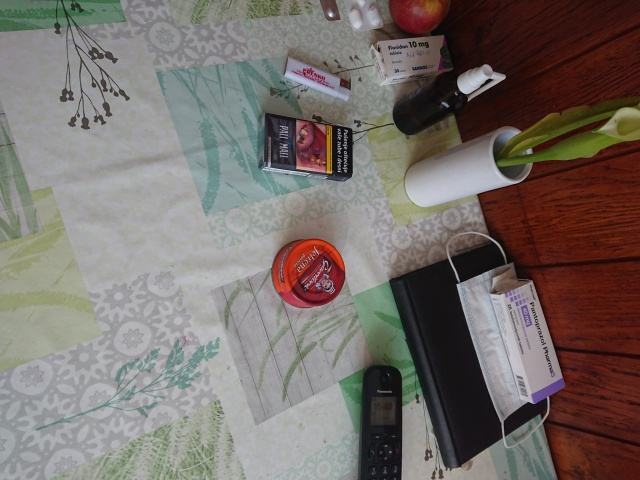Gavrilovic Pork Liver Pate 100g: (267, 236, 348, 311)
